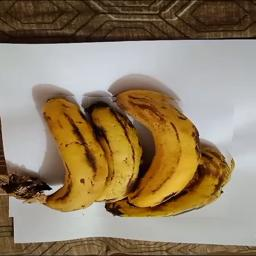Banana Semifresh: (9, 93, 234, 217)
